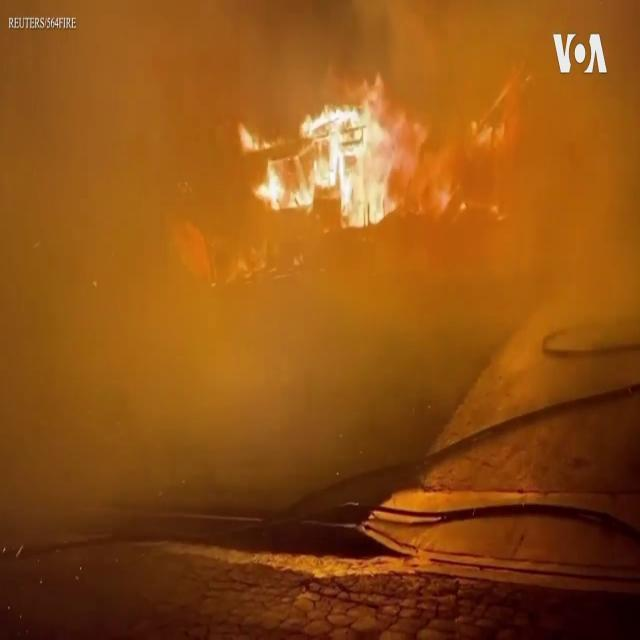Fire: (254, 72, 416, 234)
Smoke: (0, 2, 296, 527)
